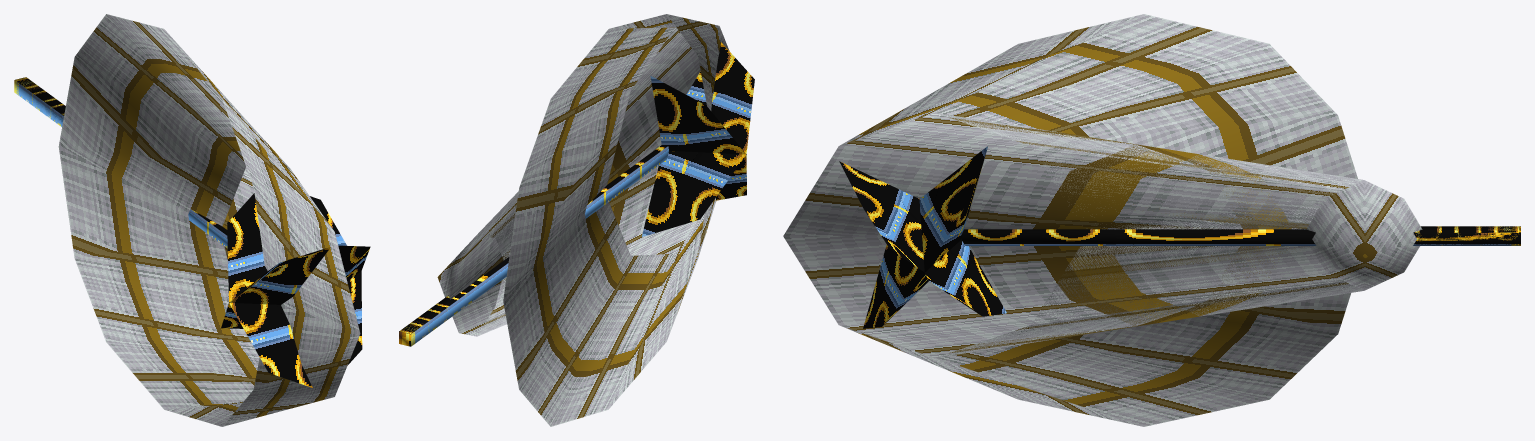
Rendered from 01_03_stick.gltf.
3 renders of one model, left to right at view 1: azimuth 30°, elevation 25°; view 2: azimuth 150°, elevation 25°; view 3: azimuth 270°, elevation 25°, orthographic. The views are drawn at different scales.
Parts seen in each view (by area): view 1: 01_03_stick; view 2: 01_03_stick; view 3: 01_03_stick.
Part boxes in pixels (x1,y1,x2,y2): 01_03_stick: [14, 14, 370, 426]; 01_03_stick: [399, 14, 754, 426]; 01_03_stick: [783, 14, 1520, 426].
Bounding box in the file's own units: 0.2778 × 0.761 × 1.23.
2 materials, 2 textured.
